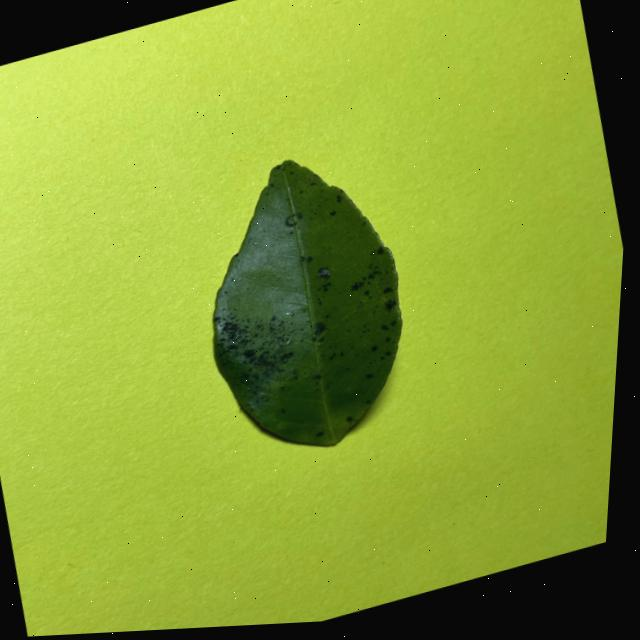sooty_mold: (213, 159, 402, 445)
